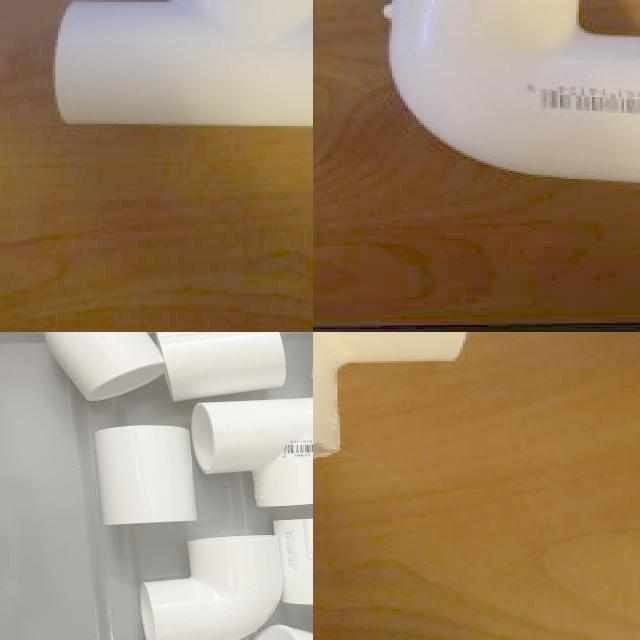L Joint: (382, 0, 640, 187), (142, 536, 283, 640), (43, 332, 167, 402)
T Joint: (190, 397, 313, 514)
